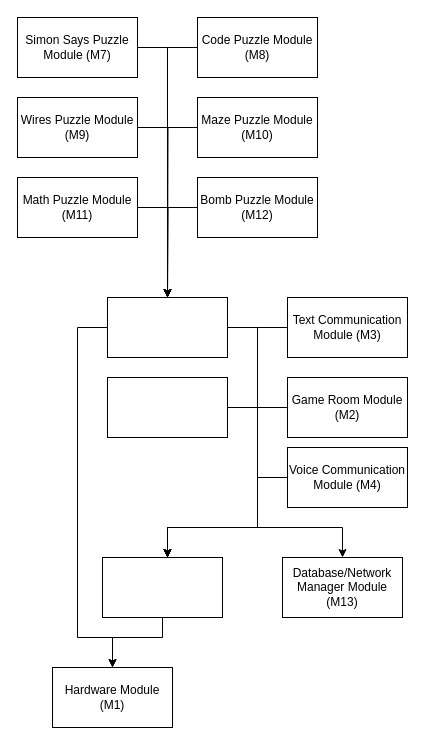
The diagram is 425 pixels wide and 745 high, and some of its shapes have lost their labels. The shapes that lost their labels are listed below. From the top down, each one's box as (x1, y1, x2, y2) in pixels, then its label:
(106, 296, 228, 358): Multiplayer Puzzle Module (M6)
(106, 376, 228, 438): Game Save Module (M5)
(102, 556, 222, 618): Error Manager Module (M14)
